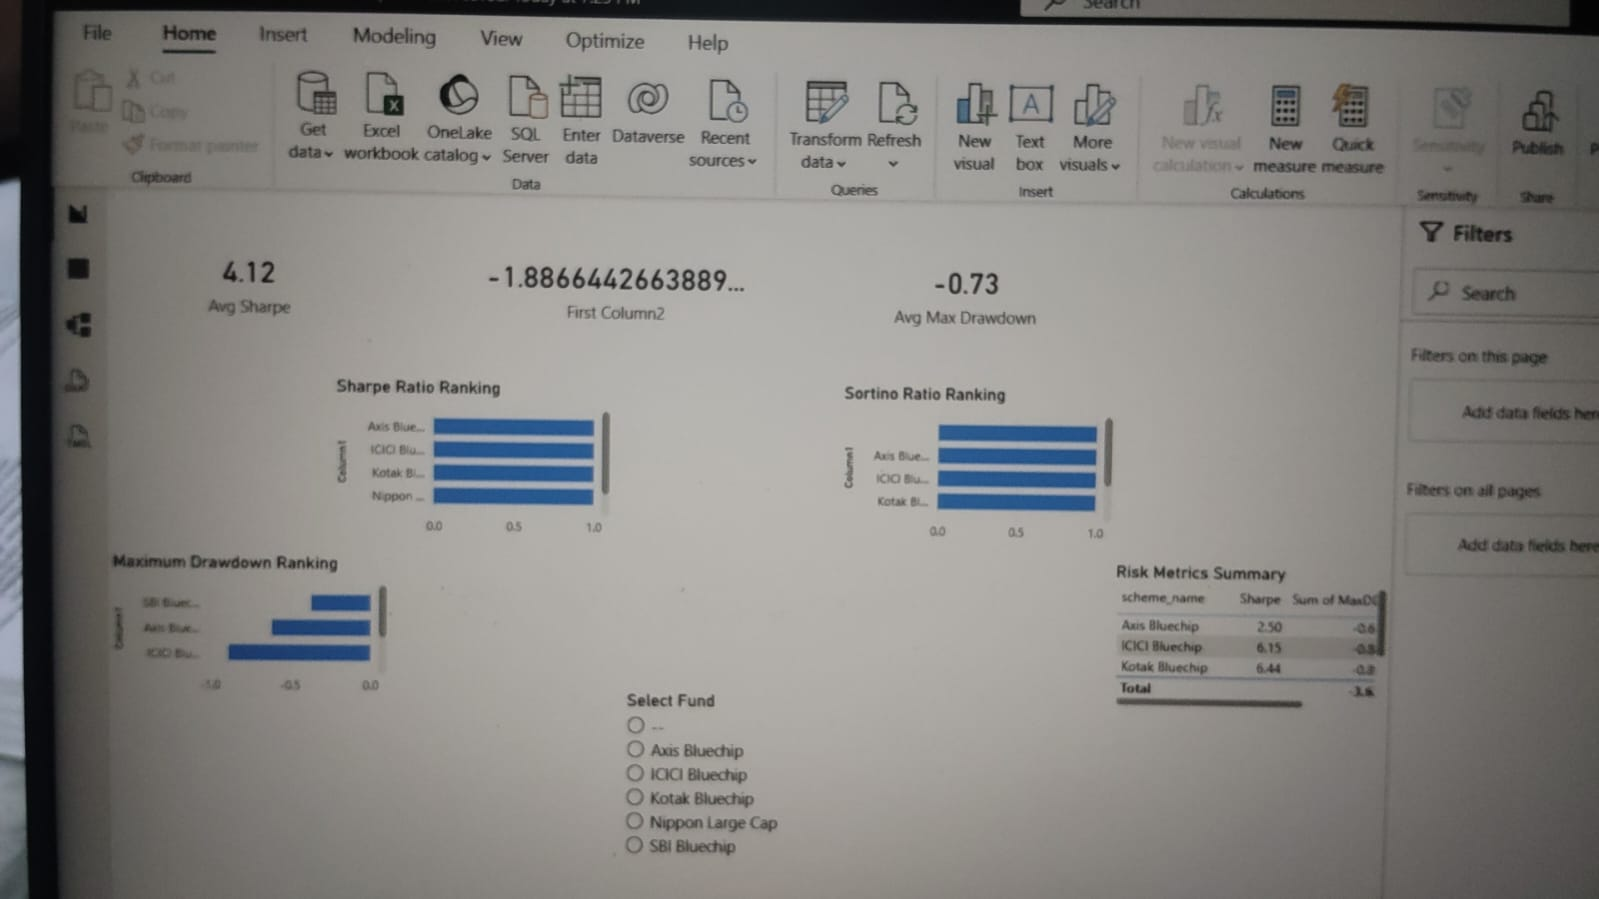

Layout of this report page (visuals, bound fields, positions):
{"tool":"powerbi","page":{"name":"Risk Analytics","canvas":[1280,720],"ordinal":2},"visuals":[{"type":"card","fields":{"Values":["cagr_comparison.Avg Sharpe"]},"box":[0,0,279.9,182.5],"z":0},{"type":"card","title":"avg sortino","fields":{"Values":["Min(sortino_ratio.Column2)"]},"box":[359.5,0,279.9,182.5],"z":1000},{"type":"card","fields":{"Values":["cagr_comparison.Avg Max Drawdown"]},"box":[709.4,0,279.9,182.5],"z":2000},{"type":"clusteredBarChart","title":"Sharpe Ratio Ranking","fields":{"Category":["sharpe_ratio.Column1"],"Y":["CountNonNull(sharpe_ratio.Sharpe)"]},"box":[219.6,182.5,279.9,167.4],"z":3000},{"type":"clusteredBarChart","title":"Sortino Ratio Ranking","fields":{"Category":["sortino_ratio.Column1"],"Y":["CountNonNull(sortino_ratio.Column2)"]},"box":[724.5,182.5,279.9,167.4],"z":4000},{"type":"clusteredBarChart","title":"Maximum Drawdown Ranking","fields":{"Category":["max_drawdown.Column1"],"Y":["Sum(max_drawdown.Max_Drawdown)"]},"box":[0,359.5,279.9,150.9],"z":5000},{"type":"tableEx","title":"Risk Metrics Summary","fields":{"Values":["fund_scorecard.scheme_name","fund_scorecard.Sharpe","Sum(fund_scorecard.MaxDD)","Sum(fund_scorecard.Score)"]},"box":[1000.3,359.5,279.9,150.9],"z":6000},{"type":"listSlicer","title":"Select Fund","fields":{"Values":["fund_scorecard.scheme_name"]},"box":[509.1,495.4,279.9,225],"z":7000}]}

Visuals, with their boxes on the page's 1280x720 design canvas (x1, y1, x2, y2). These are canvas units, not pixel positions in the 1599x899 screenshot, which may show the page scaled, cropped or inside an application window:
card - cagr_comparison.Avg Sharpe: 0, 0, 280, 182
"avg sortino" card: 360, 0, 639, 182
card - cagr_comparison.Avg Max Drawdown: 709, 0, 989, 182
"Sharpe Ratio Ranking" clusteredBarChart: 220, 182, 500, 350
"Sortino Ratio Ranking" clusteredBarChart: 724, 182, 1004, 350
"Maximum Drawdown Ranking" clusteredBarChart: 0, 360, 280, 510
"Risk Metrics Summary" tableEx: 1000, 360, 1280, 510
"Select Fund" listSlicer: 509, 495, 789, 720
